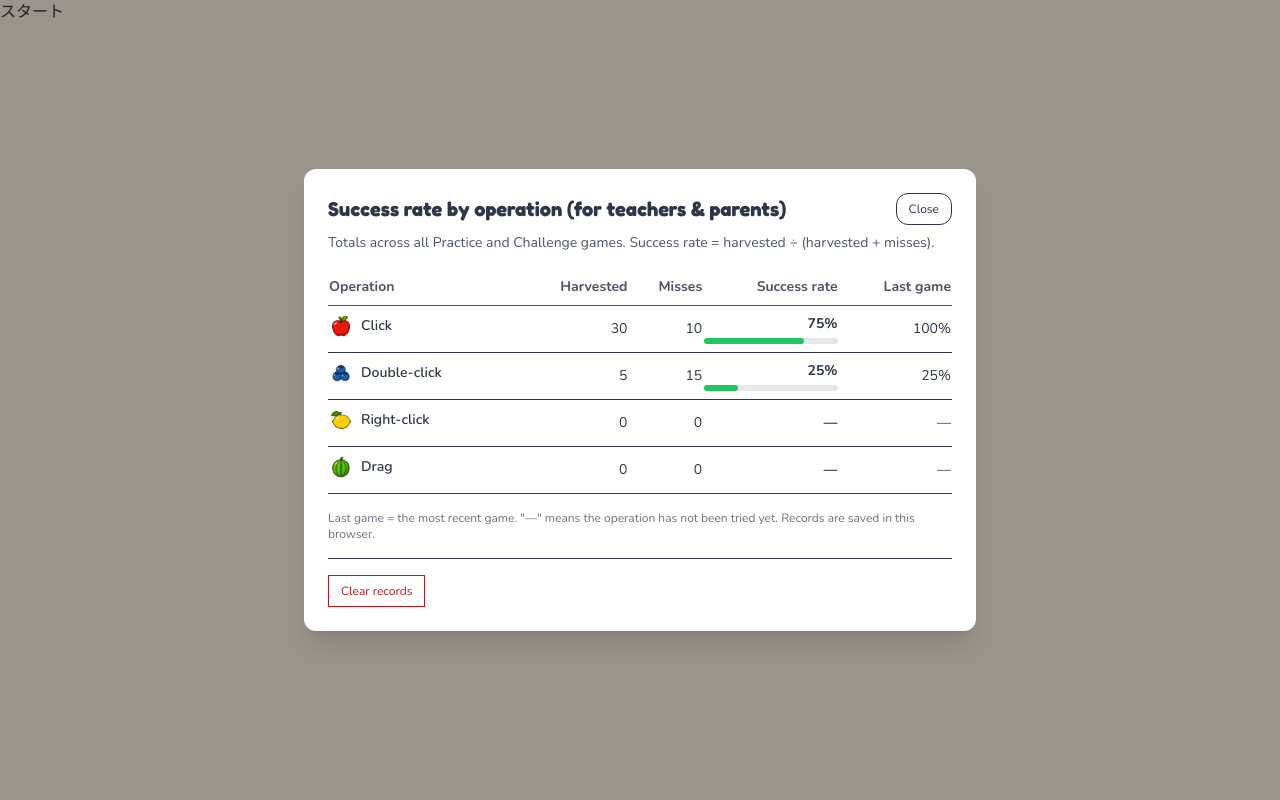
Scenario: OperationReportModal: きろくを けす › RST-A-07: 英語のボタン名
This screenshot has width=1280, height=800.
Click the button "Clear records" at x=377, y=591, box top-left (328, 575), bottom-right (425, 607)
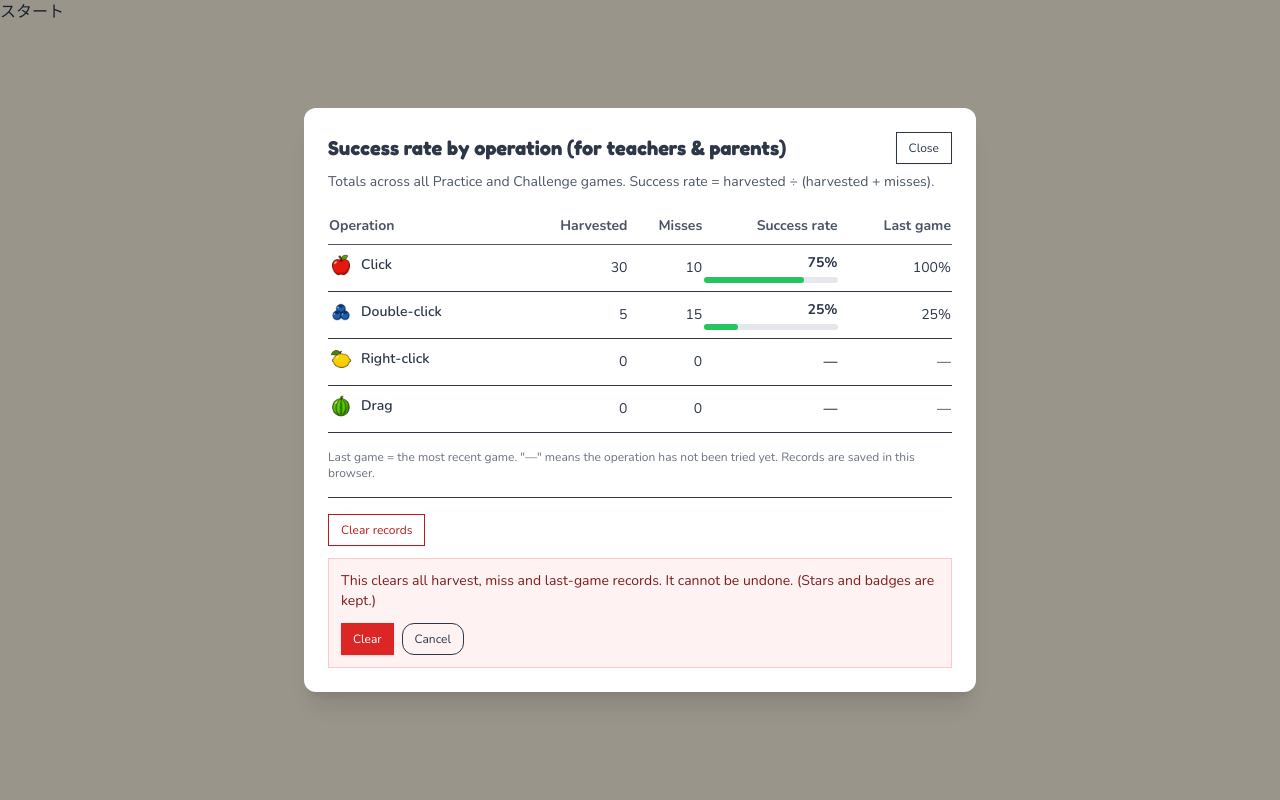
Result: the text "This clears all harvest, miss and last-game records. It cannot be undone. (Stars and badges are kept.)" is shown at top-left (341, 571), bottom-right (934, 610)
